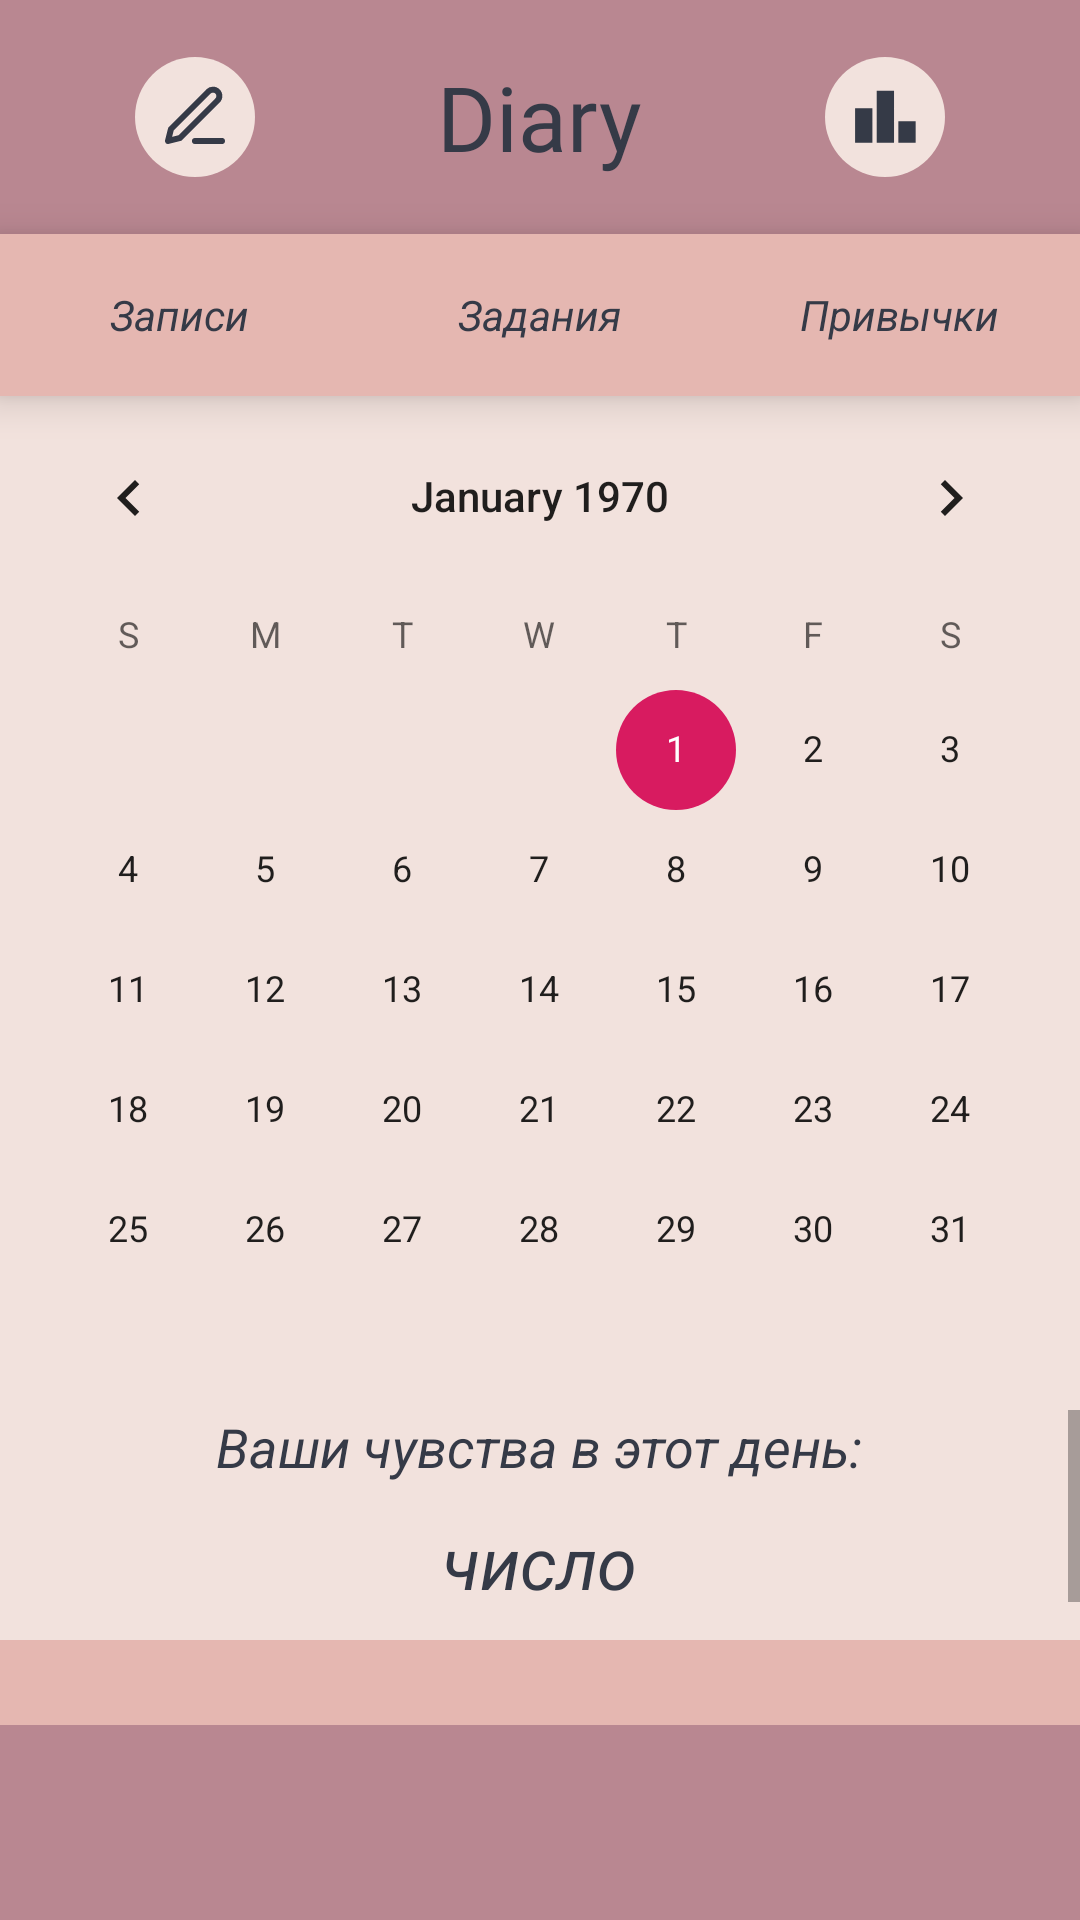

Locate icon controls on the screen. Image size 1080×1920, boxes as BBox(x1, y1, x2, y2).
statistic: BBox(825, 57, 945, 177)
text: BBox(135, 57, 255, 177)
